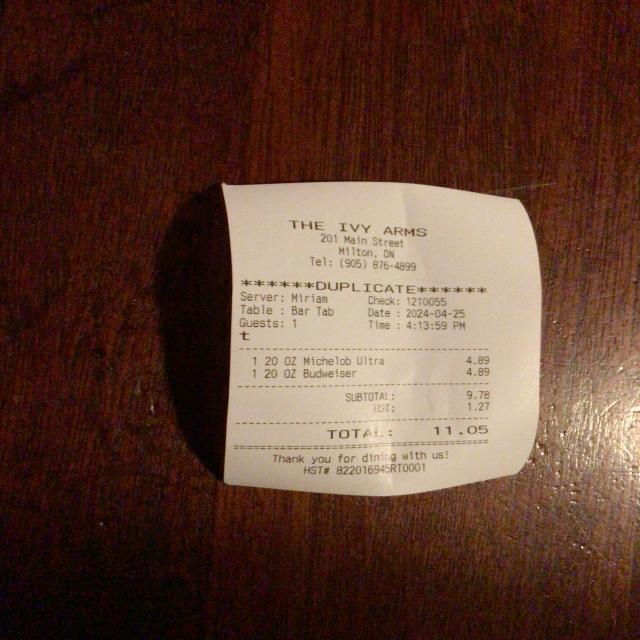item: (258, 350, 494, 368), (258, 366, 495, 382)
store_name: (284, 218, 436, 238)
total_amount: (323, 422, 494, 442)
transaction_date: (401, 306, 469, 321)
